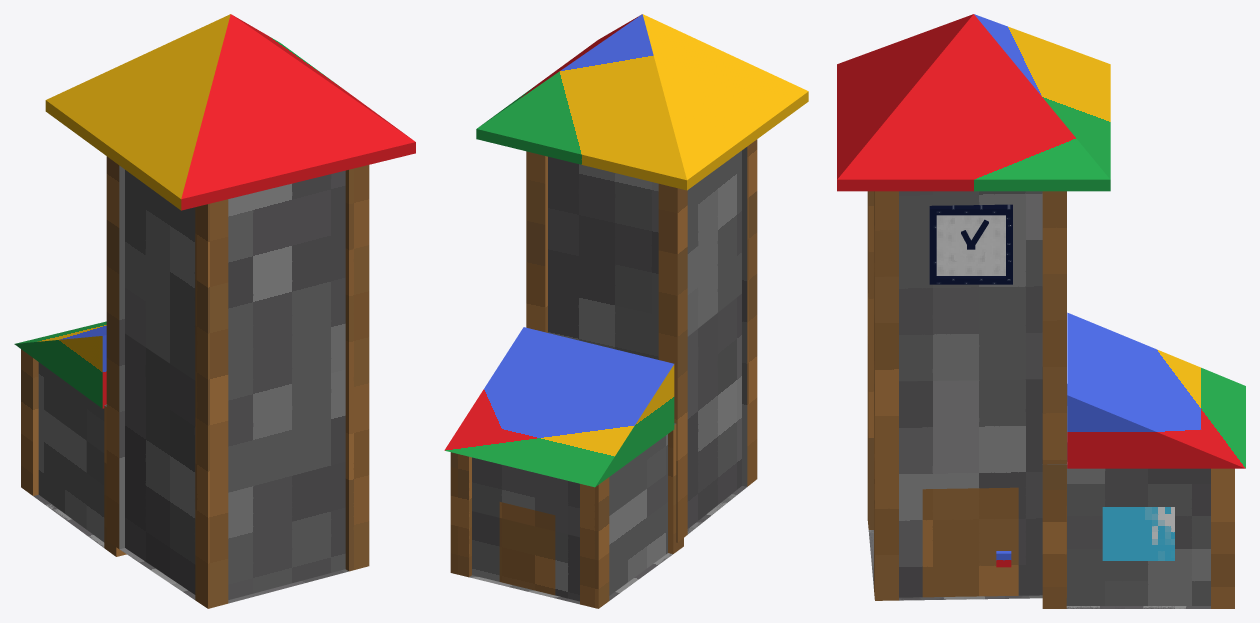
Rendered from TownHall.glb.
The picture shows the model from 3 angles, left to right: view 1: azimuth 30°, elevation 25°; view 2: azimuth 150°, elevation 25°; view 3: azimuth 270°, elevation 25°; orthographic projection. The views are drawn at different scales.
Visible parts, largest first — view 1: Cube.007; view 2: Cube.007; view 3: Cube.007.
Part boxes in pixels (x1,y1,x2,y2): Cube.007: (14,14,415,608); Cube.007: (444,14,808,608); Cube.007: (837,14,1245,608).
Bounding box in the file's own units: 12.19 × 27.22 × 18.22.
6 materials, 6 textured.
